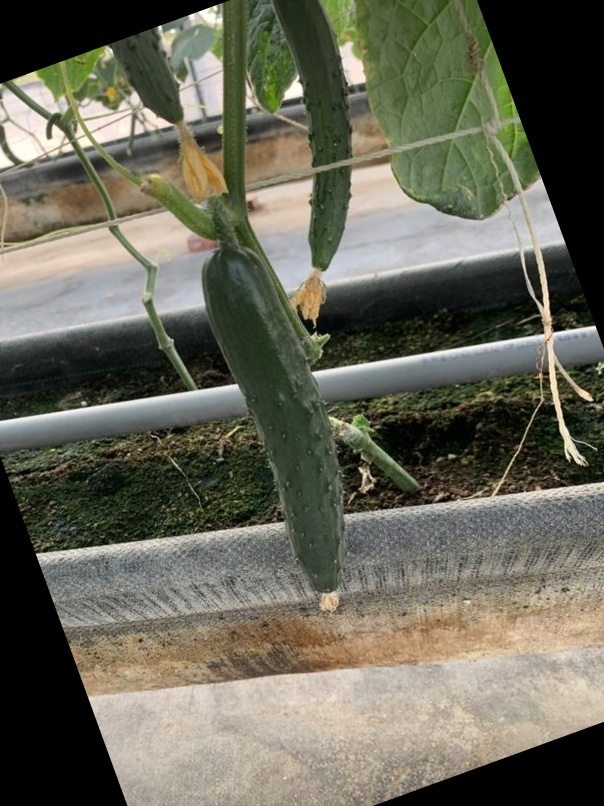mature: (193, 240, 360, 604), (275, 1, 357, 284)
